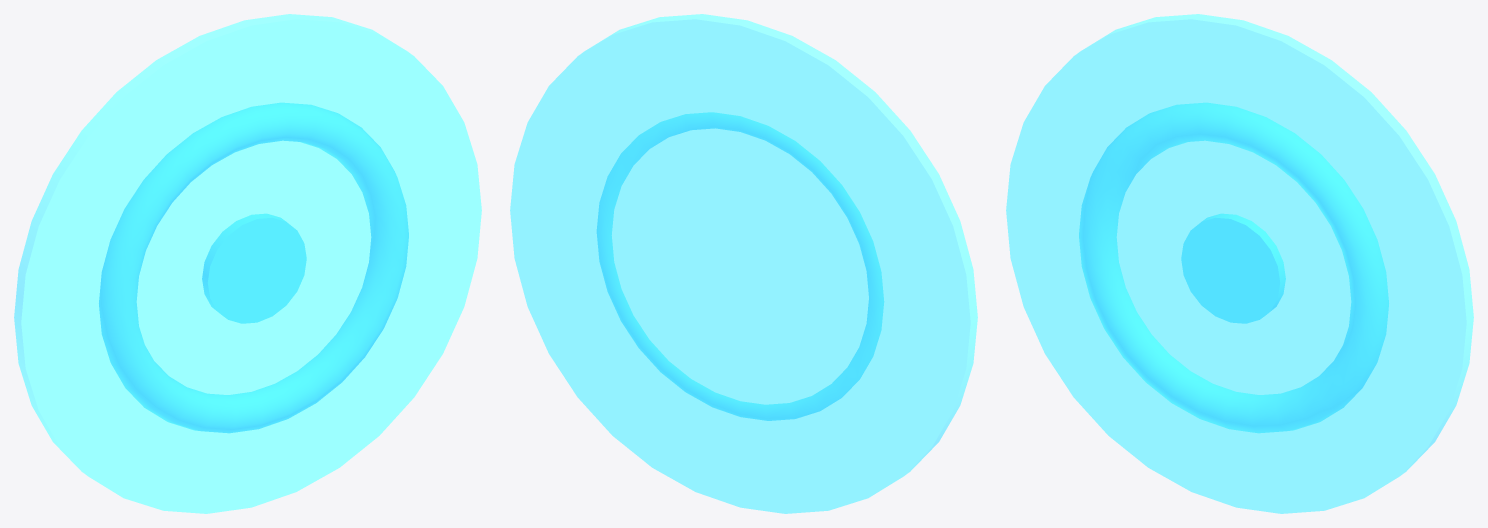
File: pod_glow.glb
3 views of the same model, side by side, from view 1: azimuth 30°, elevation 25°; view 2: azimuth 150°, elevation 25°; view 3: azimuth 330°, elevation 25° (orthographic).
Parts seen in each view (by area): view 1: glow_lens, glow_ring, glow_core; view 2: glow_lens, glow_ring; view 3: glow_lens, glow_ring, glow_core.
Boxes of the visible parts, x1=… form: glow_lens: x1=14, y1=14, x2=481, y2=513; glow_ring: x1=99, y1=102, x2=408, y2=433; glow_core: x1=202, y1=213, x2=306, y2=323; glow_lens: x1=510, y1=14, x2=977, y2=513; glow_ring: x1=596, y1=112, x2=884, y2=420; glow_lens: x1=1006, y1=14, x2=1473, y2=513; glow_ring: x1=1079, y1=102, x2=1388, y2=433; glow_core: x1=1181, y1=213, x2=1285, y2=323.
Bounding box in the file's own units: 1.86 × 1.86 × 0.1331.
